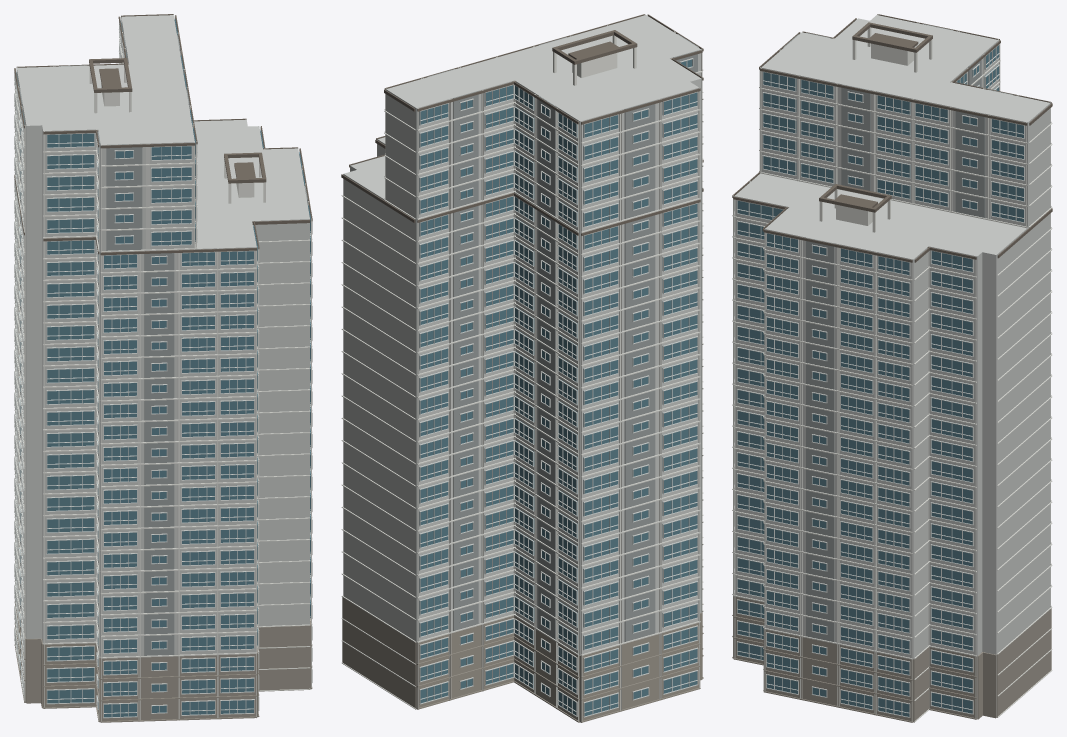
Rendered from bespoke-banpo-xi-128.glb.
3 renders of one model, left to right at view 1: azimuth 30°, elevation 25°; view 2: azimuth 150°, elevation 25°; view 3: azimuth 270°, elevation 25°, orthographic. The views are drawn at different scales.
Visible parts, largest first — view 1: editable_BX128_pale_silver_limestone, editable_BX128_blue_grey_broad_glazing, editable_BX128_white_window_frames, editable_BX128_ivory_course_bands, editable_BX128_grey_service_core, editable_BX128_warm_ground_stone, editable_BX128_dark_coping; view 2: editable_BX128_pale_silver_limestone, editable_BX128_blue_grey_broad_glazing, editable_BX128_white_window_frames, editable_BX128_ivory_course_bands, editable_BX128_grey_service_core, editable_BX128_warm_ground_stone, editable_BX128_dark_coping; view 3: editable_BX128_pale_silver_limestone, editable_BX128_blue_grey_broad_glazing, editable_BX128_white_window_frames, editable_BX128_ivory_course_bands, editable_BX128_grey_service_core, editable_BX128_warm_ground_stone, editable_BX128_dark_coping.
Part boxes in pixels (x1,y1,x2,y2): editable_BX128_pale_silver_limestone: (16,15,309,657); editable_BX128_blue_grey_broad_glazing: (16,19,310,717); editable_BX128_white_window_frames: (14,21,312,718); editable_BX128_ivory_course_bands: (14,15,312,722); editable_BX128_grey_service_core: (19,34,307,655); editable_BX128_warm_ground_stone: (14,601,312,722); editable_BX128_dark_coping: (14,14,312,255); editable_BX128_pale_silver_limestone: (343,15,701,721); editable_BX128_blue_grey_broad_glazing: (419,59,697,716); editable_BX128_white_window_frames: (419,58,698,717); editable_BX128_ivory_course_bands: (341,14,703,721); editable_BX128_grey_service_core: (427,34,698,641); editable_BX128_warm_ground_stone: (342,597,703,722); editable_BX128_dark_coping: (341,14,703,235); editable_BX128_pale_silver_limestone: (734,15,1050,718); editable_BX128_blue_grey_broad_glazing: (737,45,1023,716); editable_BX128_white_window_frames: (734,44,1024,717); editable_BX128_ivory_course_bands: (732,14,1052,721); editable_BX128_grey_service_core: (783,24,1013,642); editable_BX128_warm_ground_stone: (732,596,1051,722); editable_BX128_dark_coping: (732,14,1052,262).
Size of the model in its own units: 39.22 by 76.5 by 37.6.
